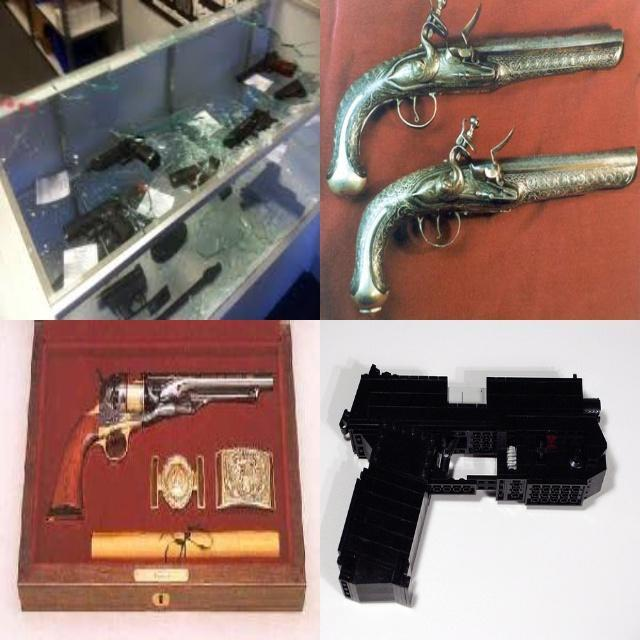gun-knife-thesis - v11 Yolov5 augmented: (336, 364, 607, 600), (347, 92, 637, 312), (325, 0, 623, 195), (45, 357, 275, 519), (218, 94, 289, 155), (55, 190, 133, 244), (85, 119, 161, 173), (167, 142, 230, 205), (231, 31, 296, 88)
